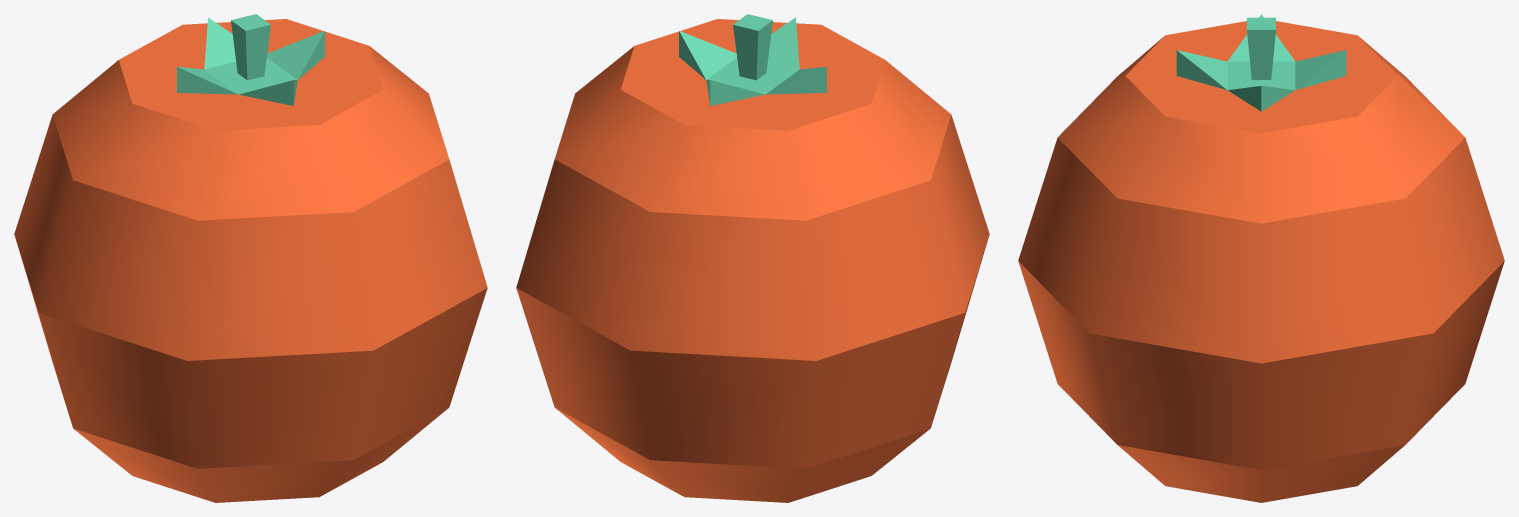
The model's file is orange.GLB.
3 renders of one model, left to right at view 1: azimuth 30°, elevation 25°; view 2: azimuth 150°, elevation 25°; view 3: azimuth 270°, elevation 25°, orthographic.
Parts seen in each view (by area): view 1: orange; view 2: orange; view 3: orange.
Boxes of the visible parts, left/top/right/bottom form: orange: left=14, top=14, right=487, bottom=502; orange: left=516, top=14, right=989, bottom=502; orange: left=1018, top=14, right=1504, bottom=502.
Size of the model in its own units: 0.1697 by 0.1622 by 0.1697.
